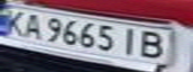5: (93, 22, 118, 54)
6: (75, 20, 100, 50), (60, 18, 81, 47)
9: (39, 15, 66, 44)
A: (18, 10, 48, 40)
B: (133, 28, 169, 61)
I: (115, 26, 145, 56)
K: (0, 7, 30, 37)
